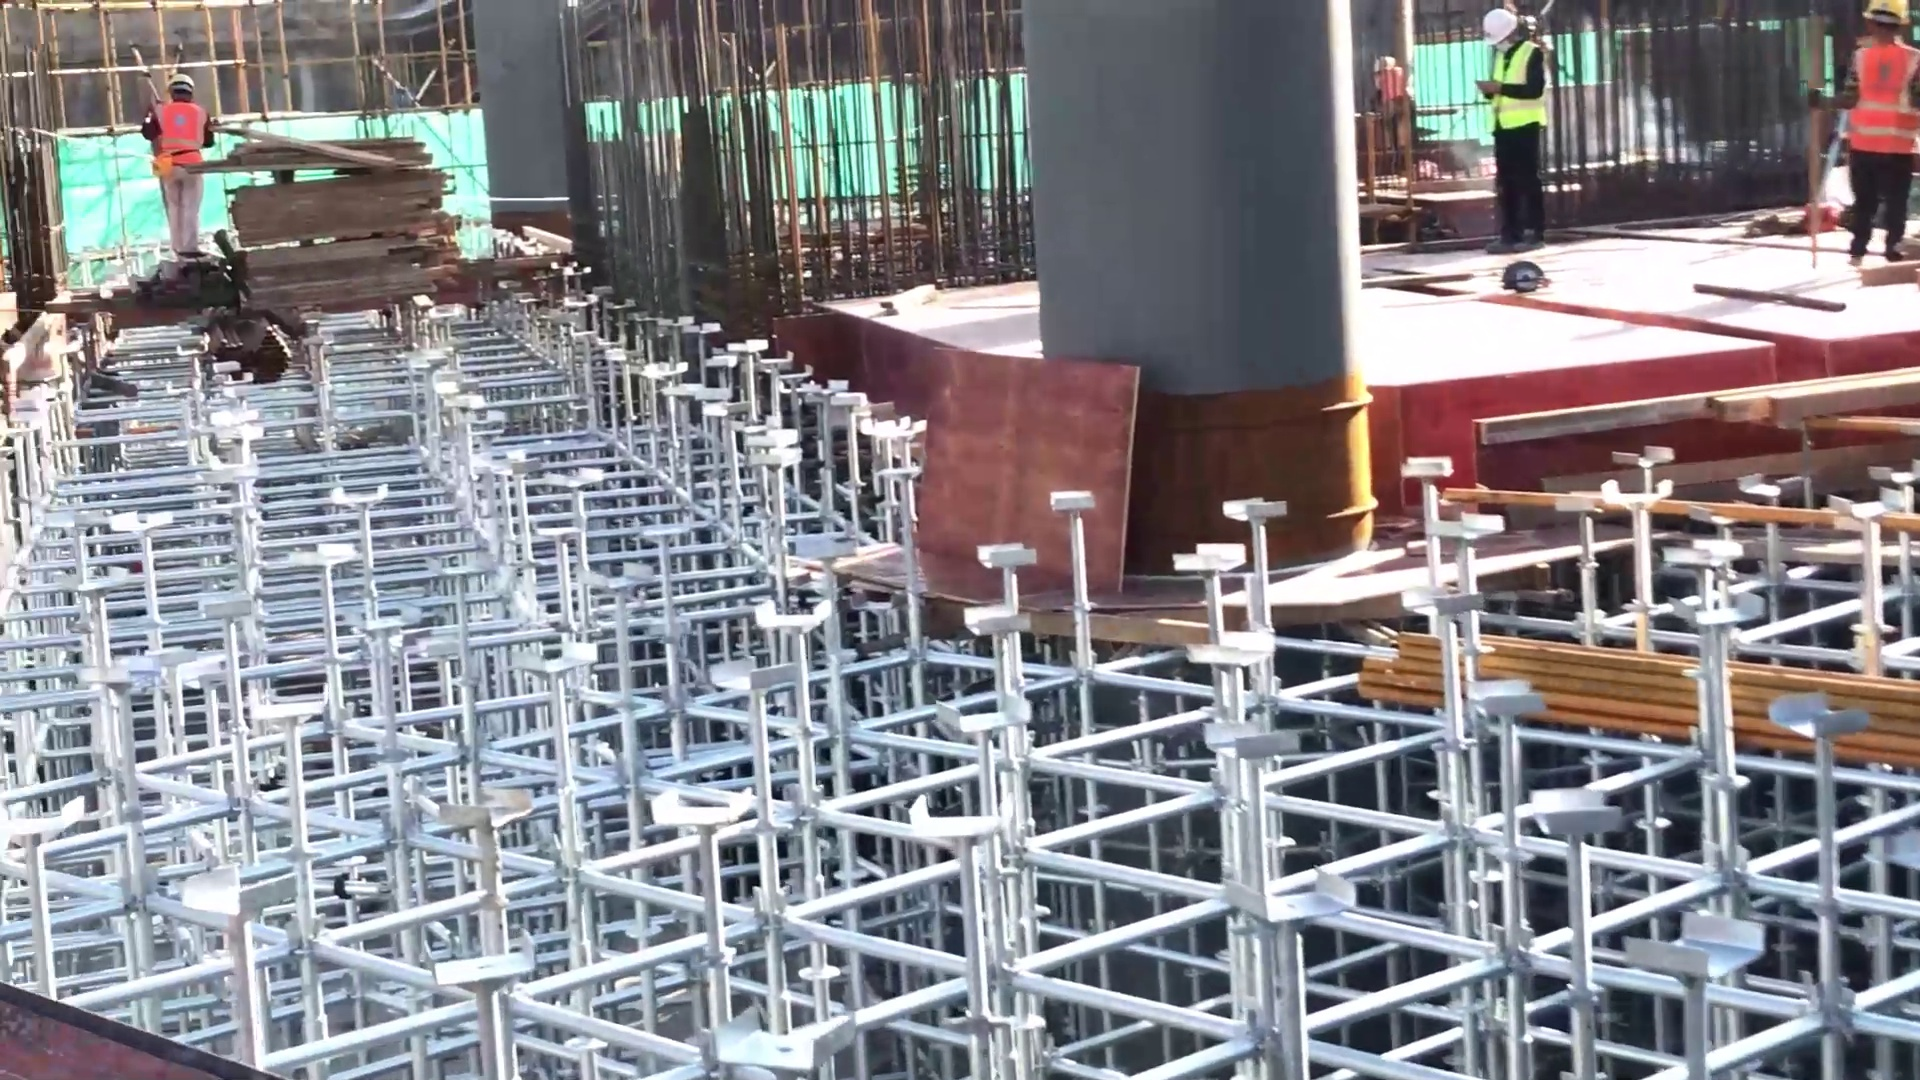helmet: (166, 55, 220, 115), (1477, 7, 1527, 47)
vest: (1844, 29, 1919, 166), (1493, 26, 1553, 127), (146, 94, 206, 167)
wood: (193, 119, 497, 303)
